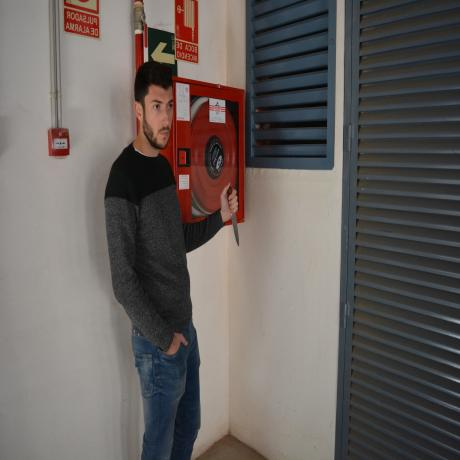1: (98, 61, 236, 460)
weapon: (227, 183, 241, 247)
